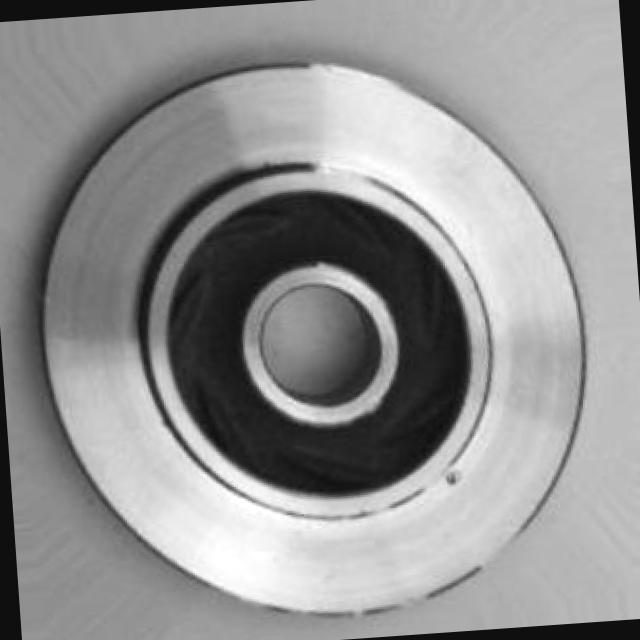Defect: (440, 466, 468, 488)
